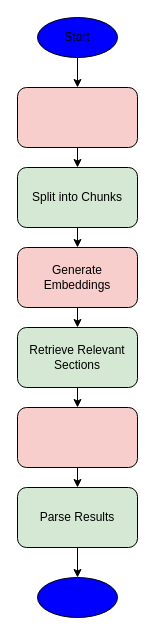
The diagram is 155 pixels wide and 635 high, and some of its shapes have lost their labels. The centre of each missing label's shape, as x and y in pixels:
End: point 77,597
Load PDF: point 77,117
Setup LLM: point 77,437
